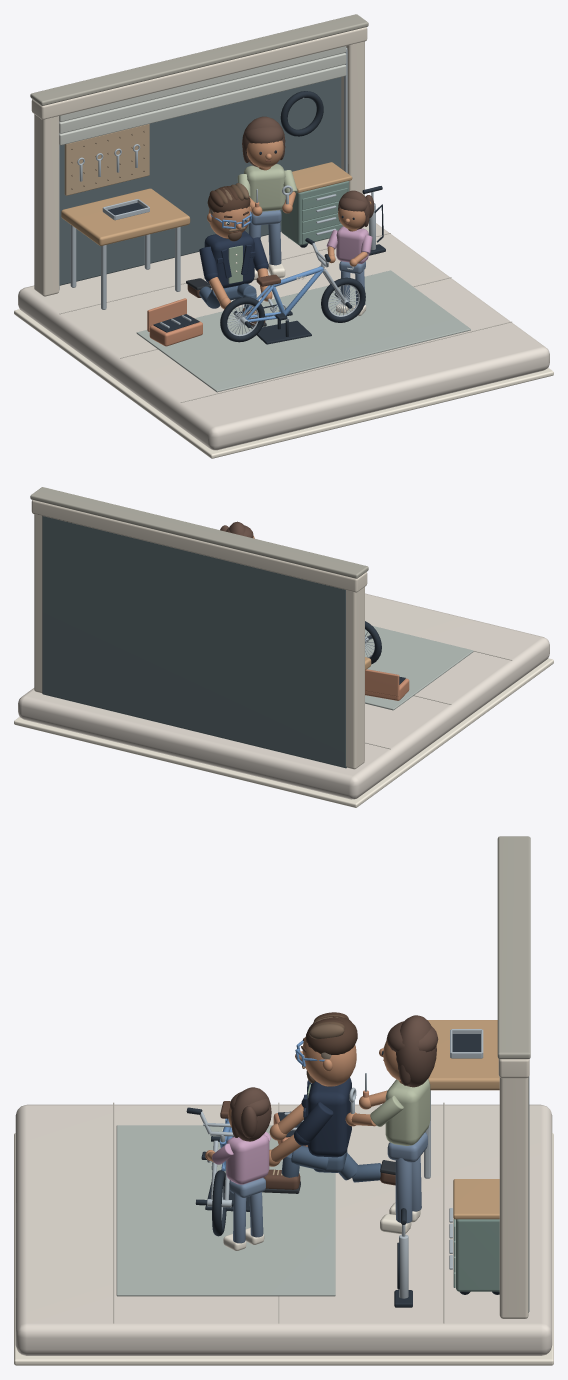
File: family.glb
3 renders of one model, top to bottom at view 1: azimuth 30°, elevation 25°; view 2: azimuth 150°, elevation 25°; view 3: azimuth 270°, elevation 25°, orthographic. The views are drawn at different scales.
Parts seen in each view (by area): view 1: Square floating plinth, Garage interior, Bicycle repair mat, Garage top trim, Garage lintel, Garage pier, Ivory lower edge, Pegboard panel, Oak desktop, Raised garage slat, Raised garage slat.001, Garage pier.001 (+15 smaller); view 2: Garage interior, Square floating plinth, Garage top trim, Garage lintel, Ivory lower edge, Bicycle repair mat, Garage pier, Garage pier.001, Toolbox lid; view 3: Square floating plinth, Bicycle repair mat, Garage top trim, Garage pier.001, Ivory lower edge, Oak desktop, Cabinet body, Jacket body, Soft sweater.001, Worktop, Hair back.001, Soft sweater (+8 smaller).
Part boxes in pixels (box(x1,y1,x2,y2)): Square floating plinth: box(18, 223, 549, 450); Garage interior: box(59, 77, 341, 285); Bicycle repair mat: box(136, 270, 470, 392); Garage top trim: box(30, 14, 368, 105); Garage lintel: box(31, 27, 367, 119); Garage pier: box(34, 114, 59, 296); Ivory lower edge: box(14, 309, 553, 458); Pegboard panel: box(64, 124, 149, 195); Oak desktop: box(61, 188, 190, 245); Raised garage slat: box(59, 64, 346, 145); Raised garage slat.001: box(59, 53, 346, 133); Garage pier.001: box(341, 41, 364, 195); Garage interior: box(42, 516, 346, 768); Square floating plinth: box(18, 593, 549, 799); Garage top trim: box(30, 487, 368, 578); Garage lintel: box(31, 500, 367, 592); Ivory lower edge: box(14, 658, 553, 807); Bicycle repair mat: box(365, 626, 473, 710); Garage pier: box(346, 587, 364, 769); Garage pier.001: box(34, 514, 42, 693); Toolbox lid: box(365, 669, 399, 696); Square floating plinth: box(15, 1104, 552, 1355); Bicycle repair mat: box(116, 1125, 335, 1296); Garage top trim: box(497, 836, 530, 1059); Garage pier.001: box(499, 1077, 528, 1318); Ivory lower edge: box(14, 1133, 553, 1365); Oak desktop: box(427, 1020, 499, 1090); Cabinet body: box(456, 1219, 499, 1291); Jacket body: box(307, 1077, 351, 1157); Soft sweater.001: box(385, 1079, 430, 1145); Worktop: box(453, 1179, 499, 1219); Hair back.001: box(396, 1015, 436, 1087); Soft sweater: box(226, 1134, 269, 1184).
Size of the model in its own units: 5.23 by 3.29 by 5.23.
